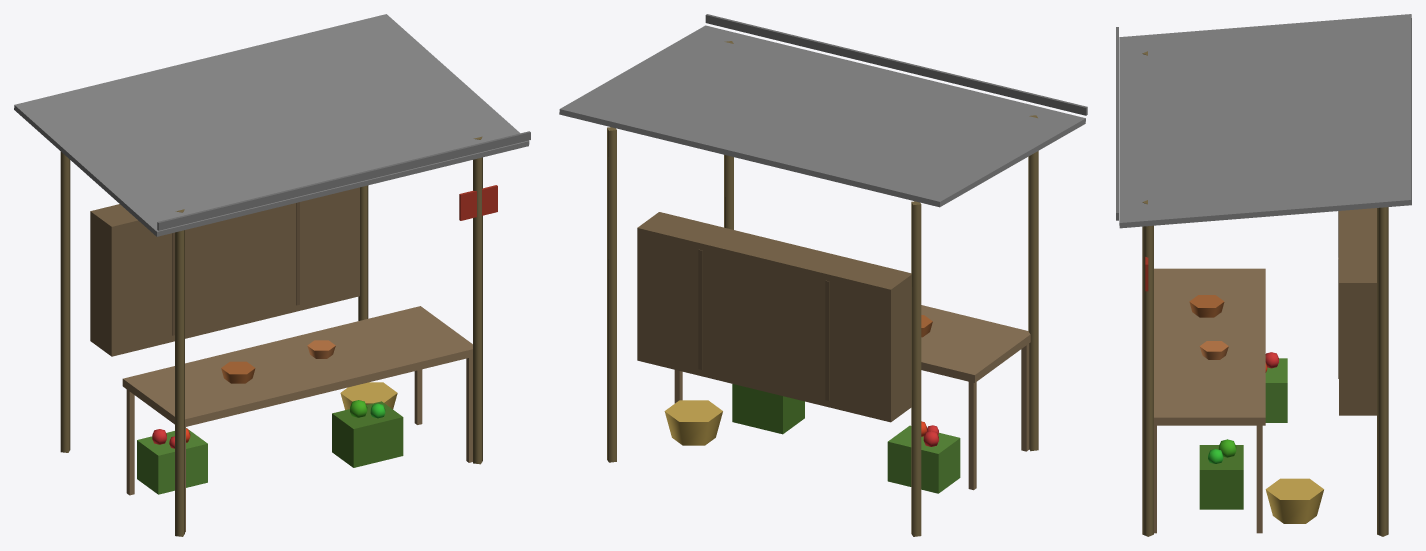
File: market-stall.glb
3 views of the same model, side by side, from view 1: azimuth 30°, elevation 25°; view 2: azimuth 150°, elevation 25°; view 3: azimuth 270°, elevation 25° (orthographic). The views are drawn at different scales.
Parts seen in each view (by area): view 1: Mesh_Roof, Mesh_BackShelf, Mesh_CounterTop, Mesh_RoofTrimFront, Mesh_Crate2, Mesh_Post_0, Mesh_Post_2, Mesh_Crate1, Mesh_Post_3, Mesh_Post_1, Mesh_Basket, Mesh_Sign (+3 smaller); view 2: Mesh_Roof, Mesh_BackShelf, Mesh_CounterTop, Mesh_RoofTrimFront, Mesh_Post_0, Mesh_Post_1, Mesh_Crate1, Mesh_Post_2, Mesh_Crate2, Mesh_Basket, Mesh_CounterLeg_0, Mesh_CounterLeg_2 (+1 smaller); view 3: Mesh_Roof, Mesh_CounterTop, Mesh_BackShelf, Mesh_Post_1, Mesh_Post_3, Mesh_Crate2, Mesh_Basket, Mesh_Crate1, Mesh_CounterLeg_1, Mesh_CounterBowl1, Mesh_RoofTrimFront, Mesh_CounterBowl2.
Boxes of the visible parts, x1,y1,x2,y2 form: Mesh_Roof: (14,14,529,236); Mesh_BackShelf: (90,187,359,356); Mesh_CounterTop: (122,306,472,426); Mesh_RoofTrimFront: (157,131,530,230); Mesh_Crate2: (332,401,403,467); Mesh_Post_0: (60,151,70,452); Mesh_Post_2: (175,209,184,536); Mesh_Crate1: (137,428,207,494); Mesh_Post_3: (473,136,482,464); Mesh_Post_1: (358,185,368,320); Mesh_Basket: (340,382,397,409); Mesh_Sign: (459,185,497,220); Mesh_Roof: (559,25,1085,207); Mesh_BackShelf: (637,212,911,422); Mesh_CounterTop: (921,305,1030,382); Mesh_RoofTrimFront: (705,14,1087,115); Mesh_Post_0: (911,201,921,536); Mesh_Post_1: (607,127,616,462); Mesh_Crate1: (887,425,960,493); Mesh_Post_2: (1028,115,1038,451); Mesh_Crate2: (732,384,804,434); Mesh_Basket: (664,400,722,445); Mesh_CounterLeg_0: (968,382,976,490); Mesh_CounterLeg_2: (1021,343,1029,451); Mesh_Roof: (1119,14,1411,228); Mesh_CounterTop: (1154,268,1265,425); Mesh_BackShelf: (1339,208,1376,415); Mesh_Post_1: (1377,207,1388,536); Mesh_Post_3: (1142,200,1153,536); Mesh_Crate2: (1199,445,1243,509); Mesh_Basket: (1265,478,1323,523); Mesh_Crate1: (1265,358,1287,422); Mesh_CounterLeg_1: (1256,425,1262,533); Mesh_CounterBowl1: (1189,295,1224,317); Mesh_RoofTrimFront: (1116,27,1118,220); Mesh_CounterBowl2: (1199,341,1228,359).
Size of the model in its own units: 3 by 2.66 by 2.02.
